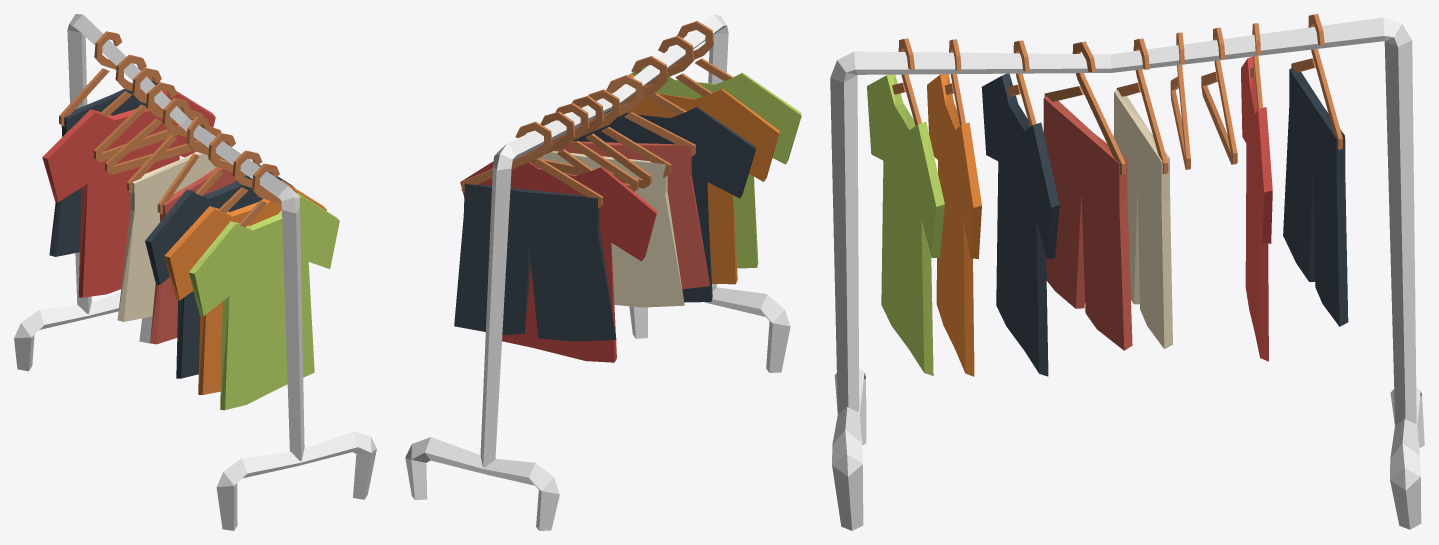
The model's file is cloth_hanger.fbx.
The picture shows the model from 3 angles, left to right: view 1: azimuth 30°, elevation 25°; view 2: azimuth 150°, elevation 25°; view 3: azimuth 270°, elevation 25°; orthographic projection. The views are drawn at different scales.
Visible parts, largest first — view 1: hanged_shirt_01, cloth_hanger, hanged_shirt_04, hanged_short_02, hanged_shirt_02, hanged_shirt_03, hanged_short_03, hanged_short_01, coat_hanger010, coat_hanger004; view 2: hanged_short_03, cloth_hanger, hanged_shirt_04, hanged_shirt_03, hanged_short_02, hanged_shirt_02, hanged_shirt_01, hanged_short_01, coat_hanger010, coat_hanger004; view 3: cloth_hanger, hanged_short_01, hanged_shirt_03, hanged_shirt_01, hanged_short_03, hanged_shirt_02, hanged_short_02, hanged_shirt_04, coat_hanger004, coat_hanger010.
Part boxes in pixels (bbox=[...]): hanged_shirt_01: bbox=[189, 163, 339, 410]; cloth_hanger: bbox=[14, 14, 376, 530]; hanged_shirt_04: bbox=[42, 54, 215, 297]; hanged_short_02: bbox=[117, 98, 226, 321]; hanged_shirt_02: bbox=[164, 150, 326, 394]; hanged_shirt_03: bbox=[145, 133, 294, 378]; hanged_short_03: bbox=[49, 31, 160, 256]; hanged_short_01: bbox=[150, 116, 235, 344]; coat_hanger010: bbox=[105, 82, 221, 174]; coat_hanger004: bbox=[93, 68, 202, 162]; hanged_short_03: bbox=[454, 121, 616, 341]; cloth_hanger: bbox=[405, 14, 790, 530]; hanged_shirt_04: bbox=[460, 111, 657, 362]; hanged_shirt_03: bbox=[572, 56, 755, 302]; hanged_short_02: bbox=[537, 89, 684, 307]; hanged_shirt_02: bbox=[580, 35, 779, 284]; hanged_shirt_01: bbox=[628, 21, 801, 268]; hanged_short_01: bbox=[554, 75, 709, 289]; coat_hanger010: bbox=[530, 95, 651, 188]; coat_hanger004: bbox=[538, 103, 638, 191]; cloth_hanger: bbox=[830, 17, 1424, 530]; hanged_short_01: bbox=[1043, 41, 1132, 350]; hanged_shirt_03: bbox=[981, 40, 1059, 376]; hanged_shirt_01: bbox=[867, 38, 944, 375]; hanged_short_03: bbox=[1283, 14, 1348, 326]; hanged_shirt_02: bbox=[927, 39, 981, 376]; hanged_short_02: bbox=[1113, 38, 1172, 348]; hanged_shirt_04: bbox=[1241, 23, 1272, 361]; coat_hanger004: bbox=[1201, 27, 1237, 164]; coat_hanger010: bbox=[1170, 32, 1190, 169].
Size of the model in its own units: 97.41 by 182 by 211.
1 material, 1 textured.
